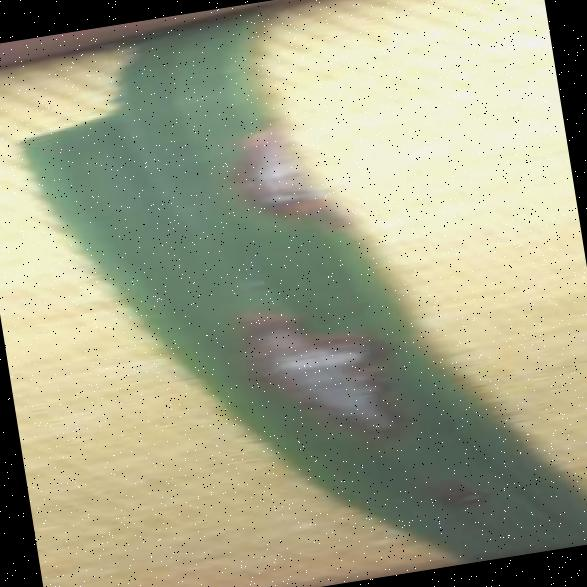Leaf_smut: (192, 263, 419, 472), (192, 82, 354, 262)
